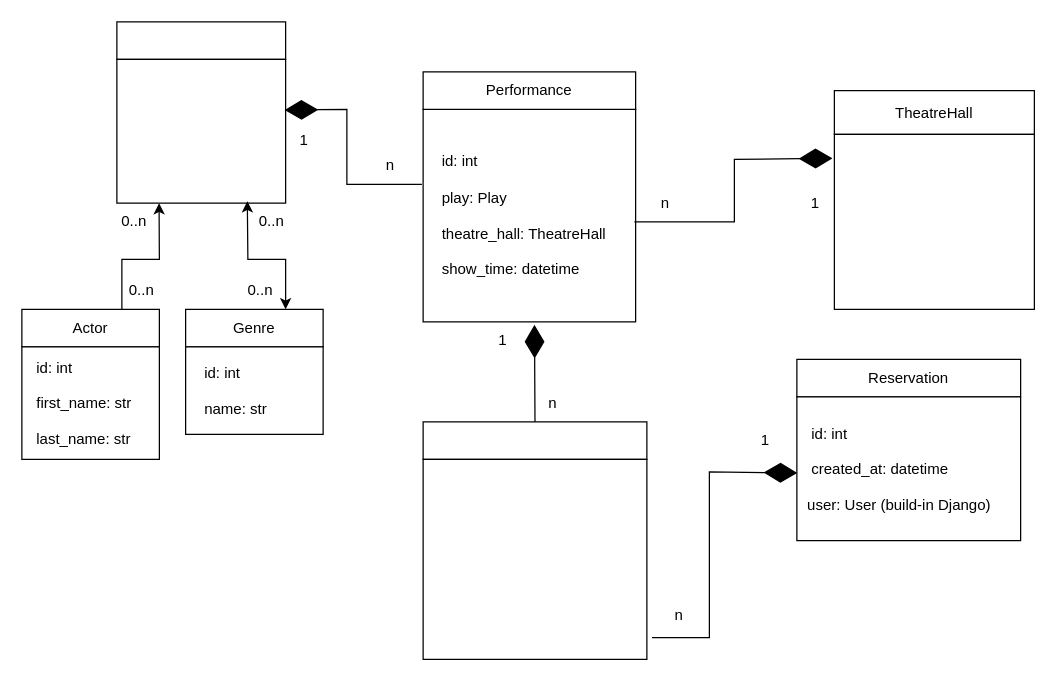
The diagram is 1056 pixels wide and 693 high, and some of its shapes have lost their labels. Each missing label, with the centre of its shape:
id: int name: str rows: int seats_in_row: int: (x=933, y=221)
id: int row: int seat: int performance: Performance reservation: Reservation: (x=534, y=558)
id: int title: str description: str (text) image: str (image): (x=201, y=130)
Play: (x=201, y=40)
Ticket: (x=534, y=440)
